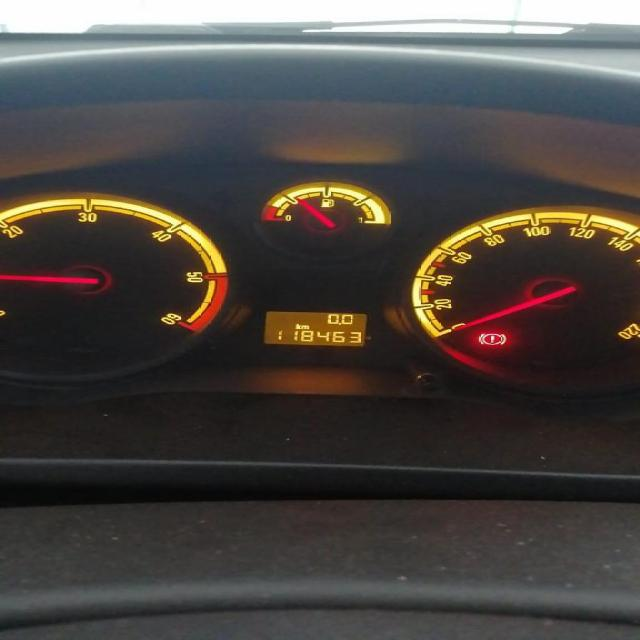odometer: (258, 308, 370, 348)
